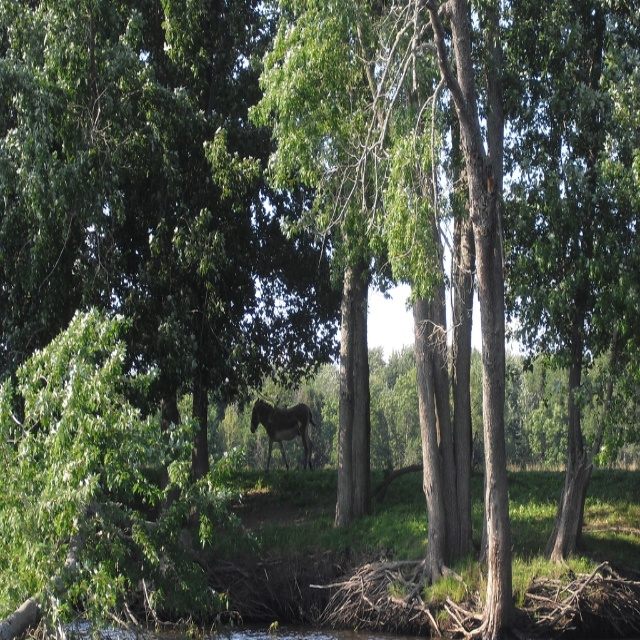Horse: (251, 396, 319, 470)
